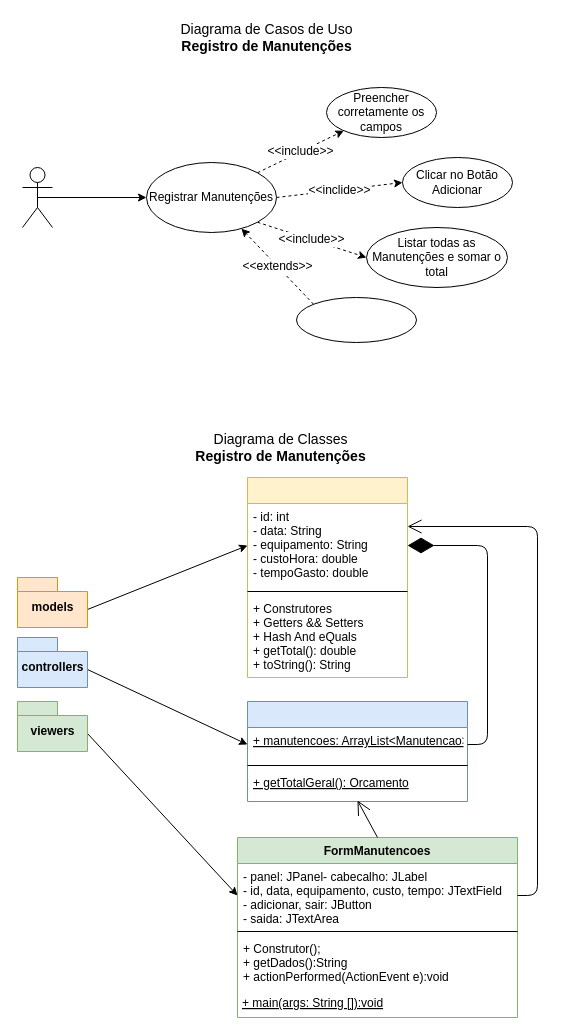
The diagram is 569 pixels wide and 1035 high, and some of its shapes have lost their labels. Here are the shapes that lost their labels. From the top down, the box of each, then its label:
(22, 166, 52, 228): Usuário
(296, 296, 416, 342): Sair e encerrar Programa
(246, 476, 408, 678): Manutencao
(246, 700, 468, 802): ProcessaManutencoes
